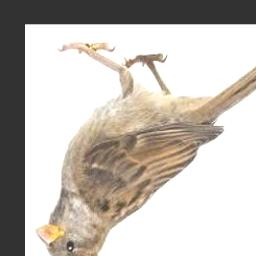Sparrow: (36, 43, 256, 256)
